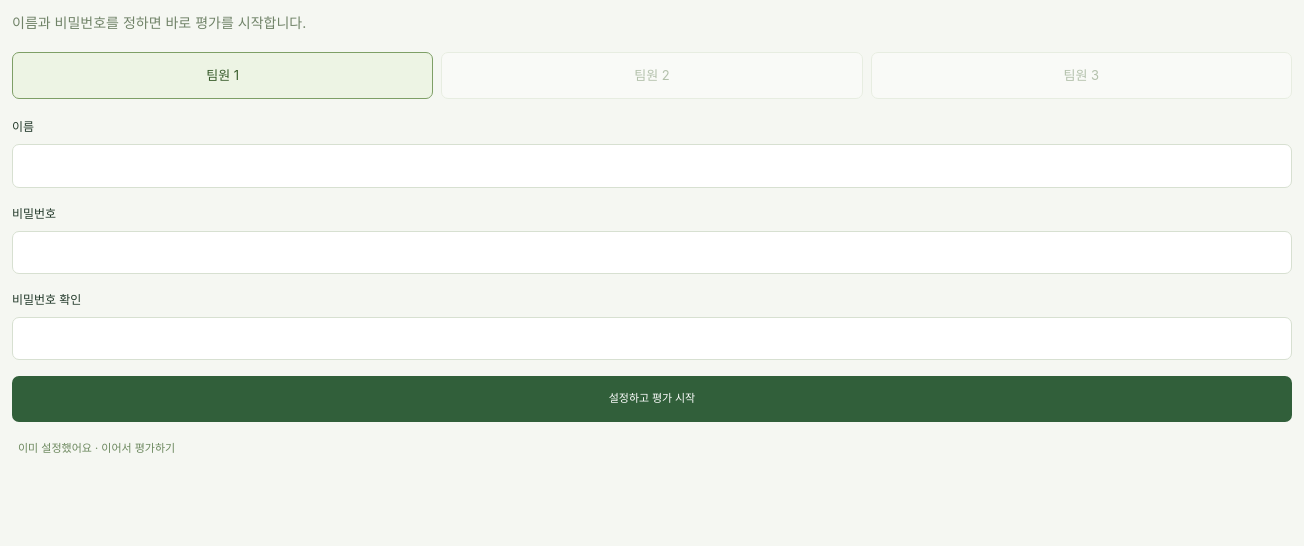
Test: self-service team access › keeps a failed registration on screen without creating a session
Type "팀원 한" into the field labelled "이름" at (652, 166), box [12,144,1292,188]
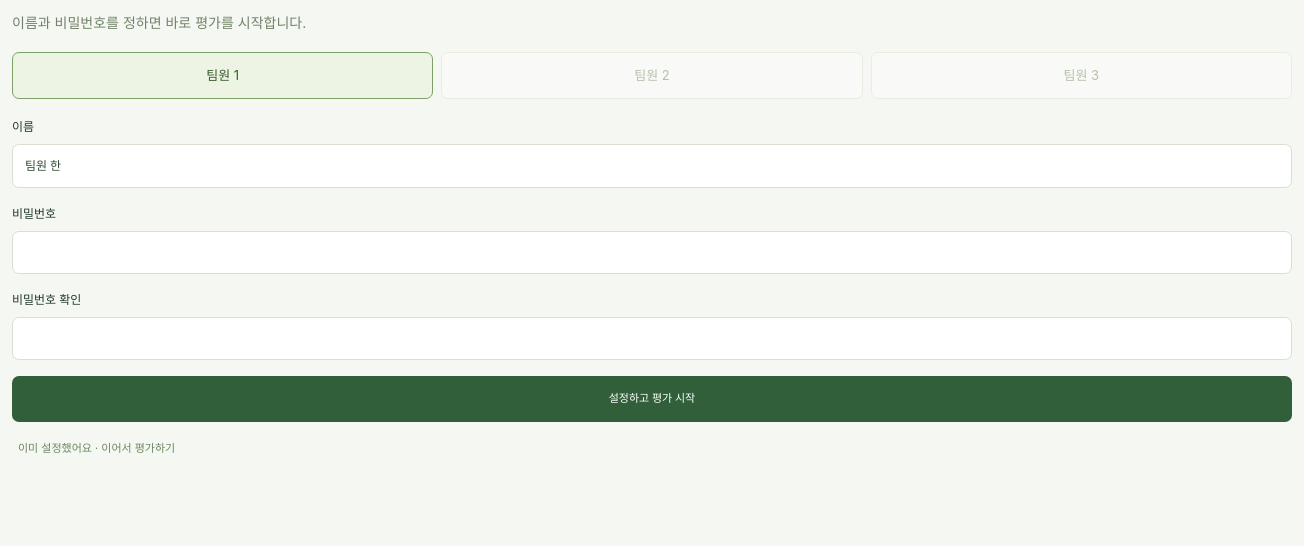
Type "SyntheticPassword12!" into the password field labelled "비밀번호" at (652, 252), box [12,231,1292,274]
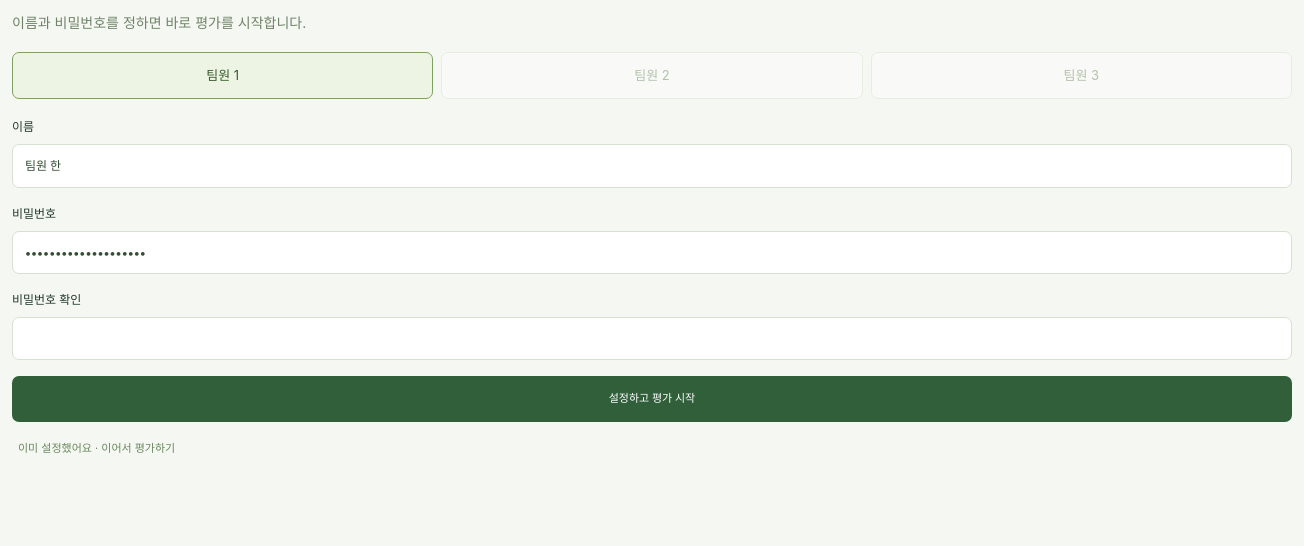
Type "SyntheticPassword12!" into the password field labelled "비밀번호 확인" at (652, 339), box [12,317,1292,360]
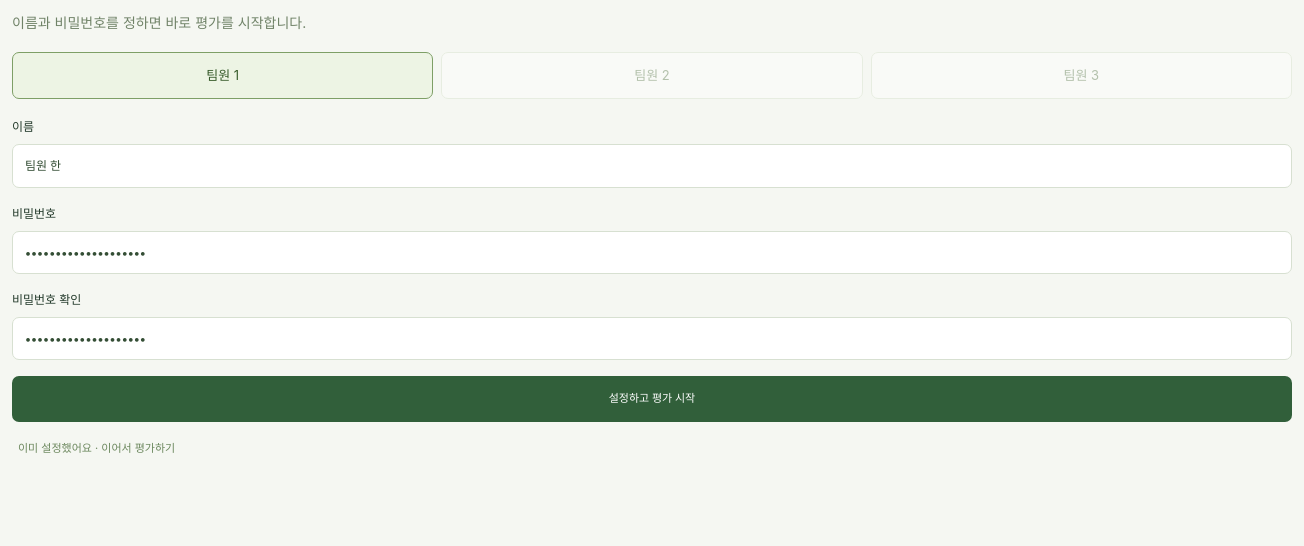
Click the button "설정하고 평가 시작" at (652, 399), box [12,376,1292,422]
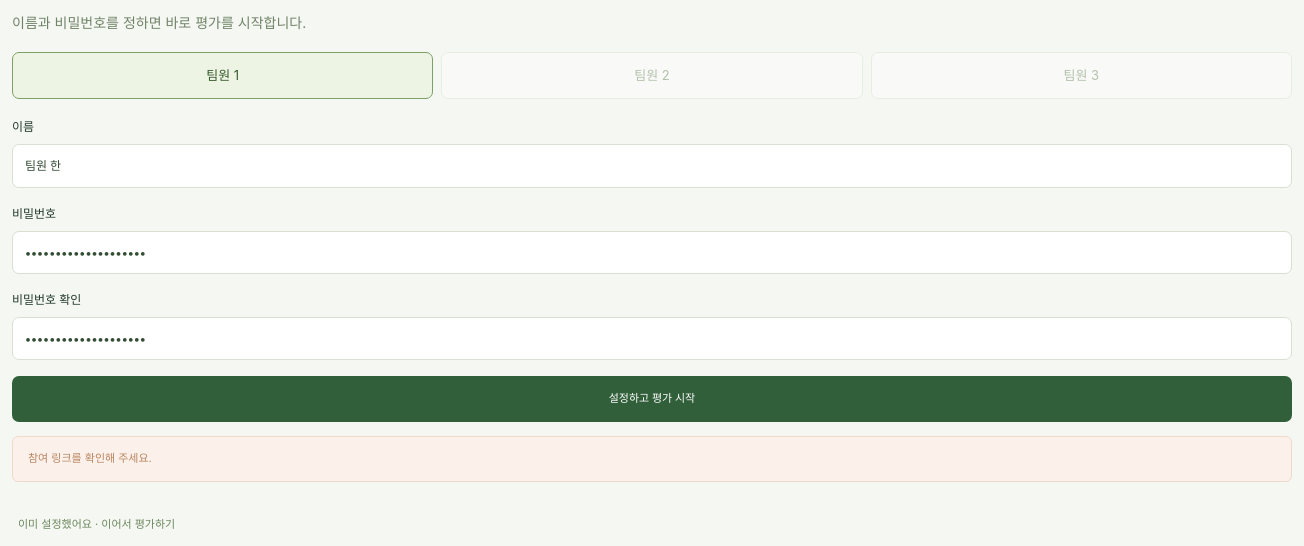
Expected: the message "참여 링크를 확인해 주세요." is shown, [12,436,1292,482]
